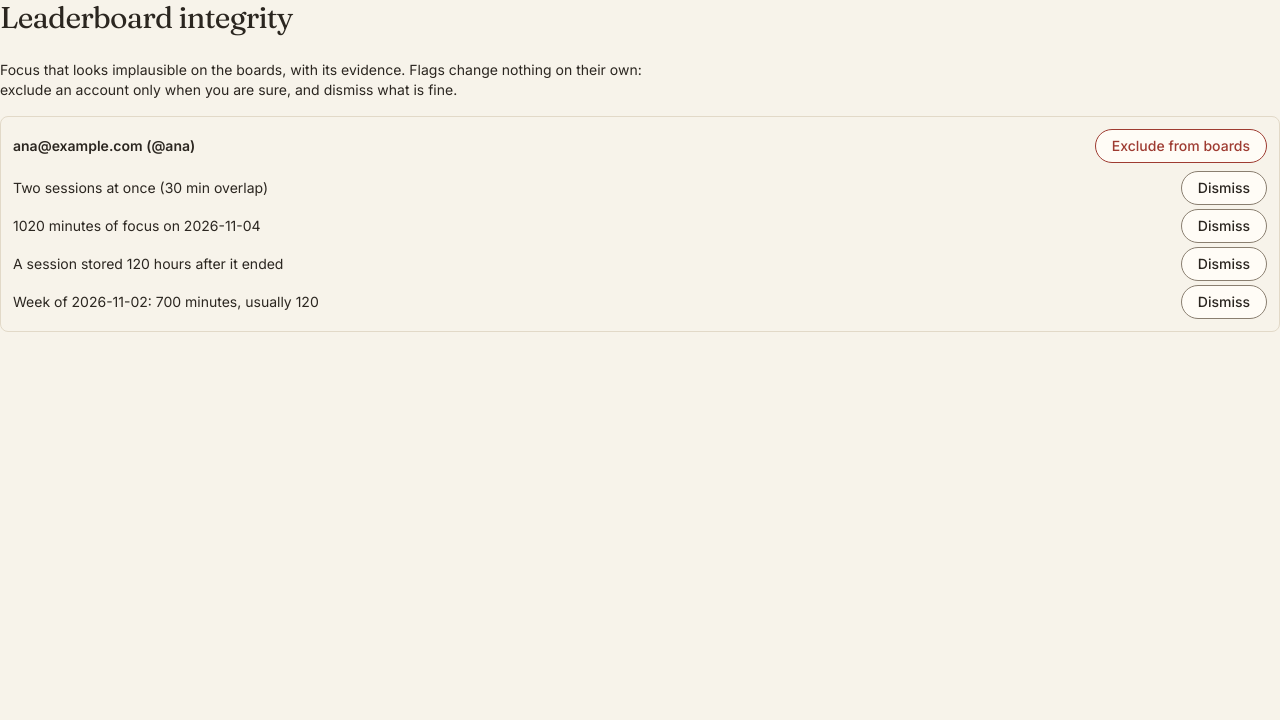
it: leaderboard integrity (D7.1) › dismisses a flag with a reason
Check: the heading "ana@example.com (@ana)" is shown, box x1=13 y1=136 x2=195 y2=156
Click the button with aria-label "Dismiss: Two sessions at once (30 min overlap)".
click(1224, 188)  # box x1=1181 y1=171 x2=1267 y2=205
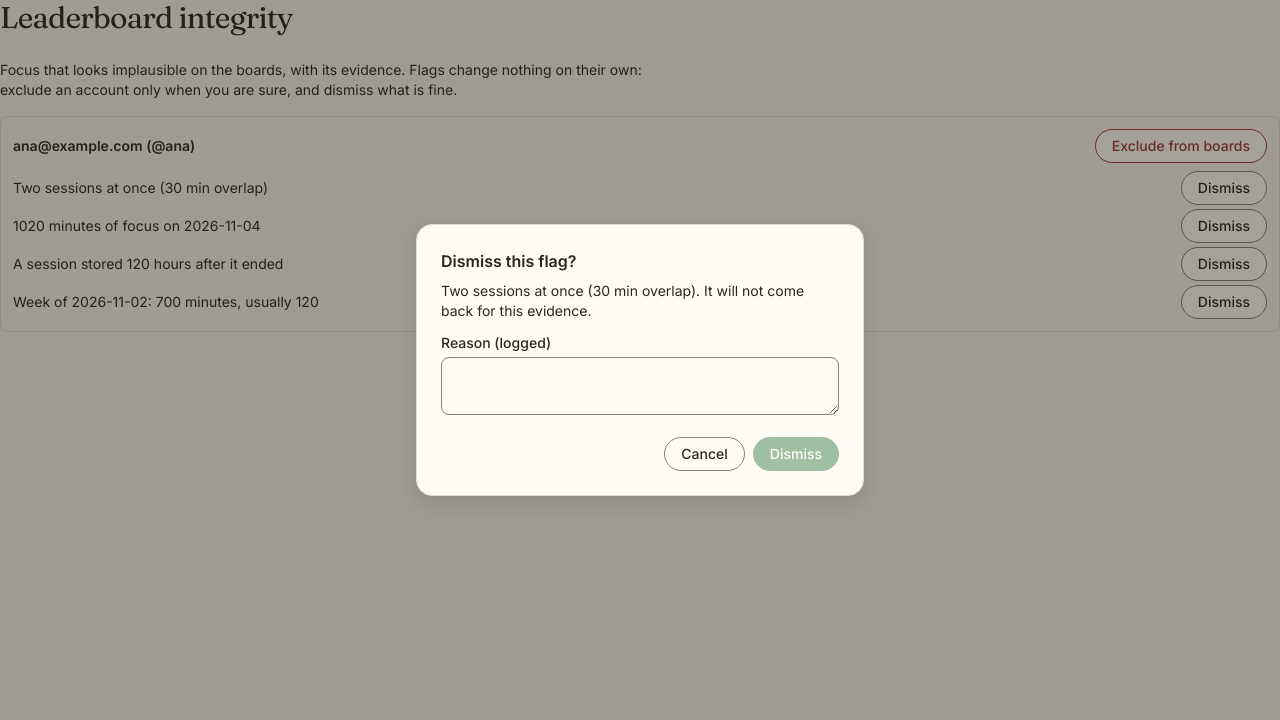
Type "Two devices, same person" into the text box labelled "Reason (logged)".
click(640, 386); type("Two devices, same person")  # box x1=441 y1=357 x2=839 y2=415
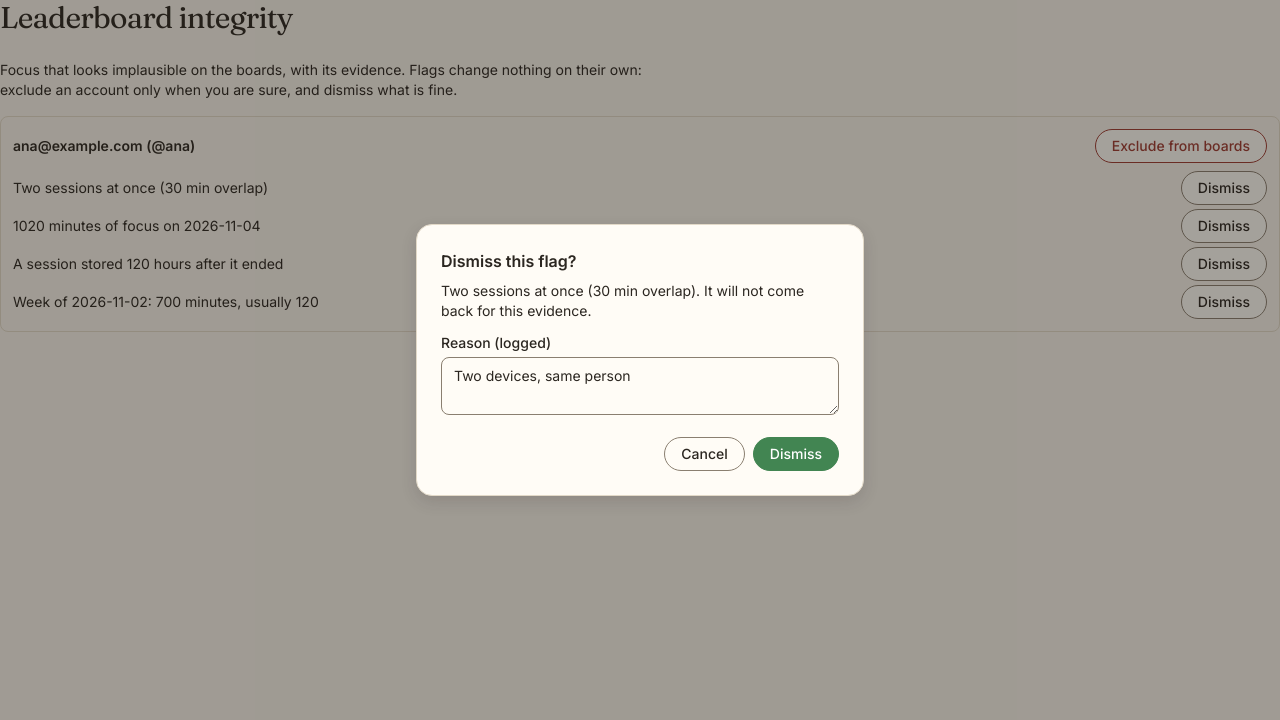
Click the button "Dismiss".
click(796, 454)  # box x1=753 y1=437 x2=839 y2=471
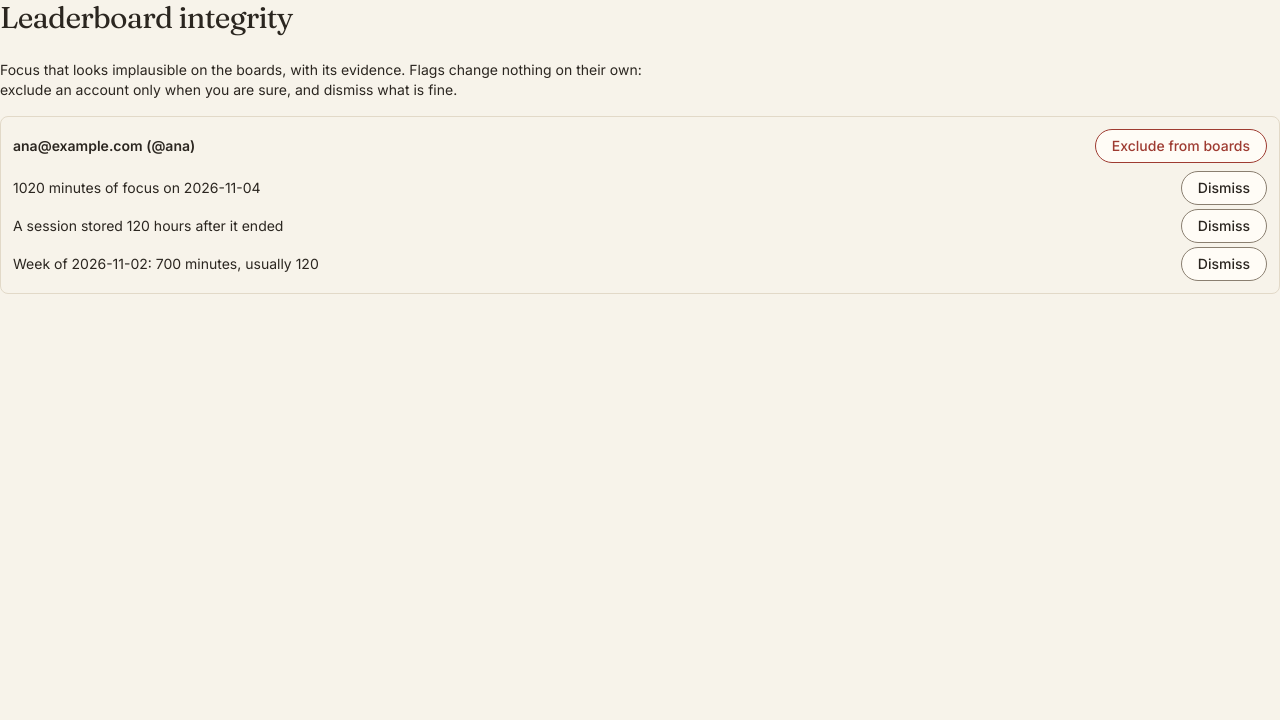
Check: the text "Two sessions at once (30 min overlap)" is gone
